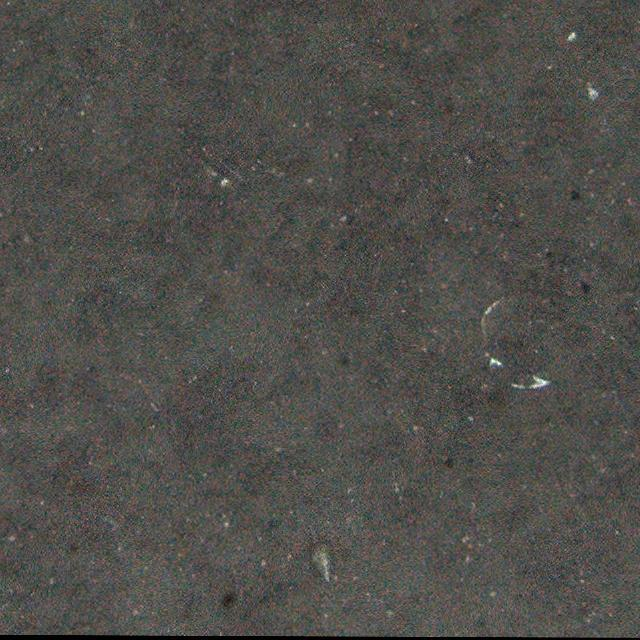whelk: (309, 534, 337, 581)
